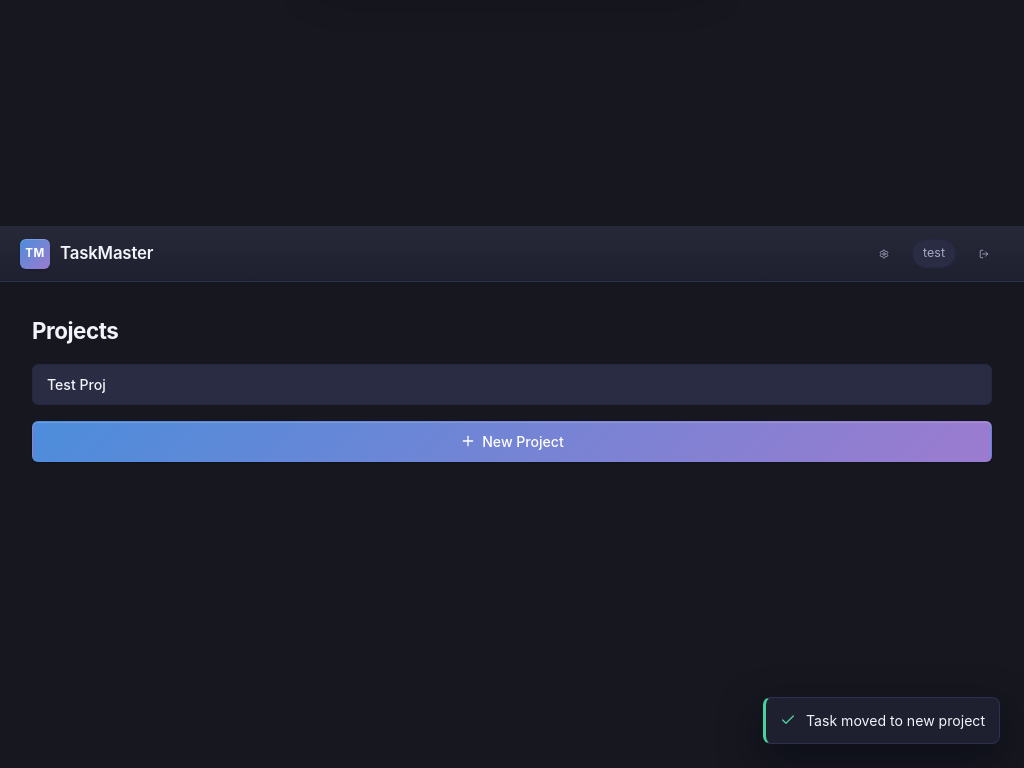
Scenario: App › opening edit task shows right-side flyout panel with dialog role
(page scrolled)
Click the button "Test Proj" at (76, 384), box [32,364,992,405]
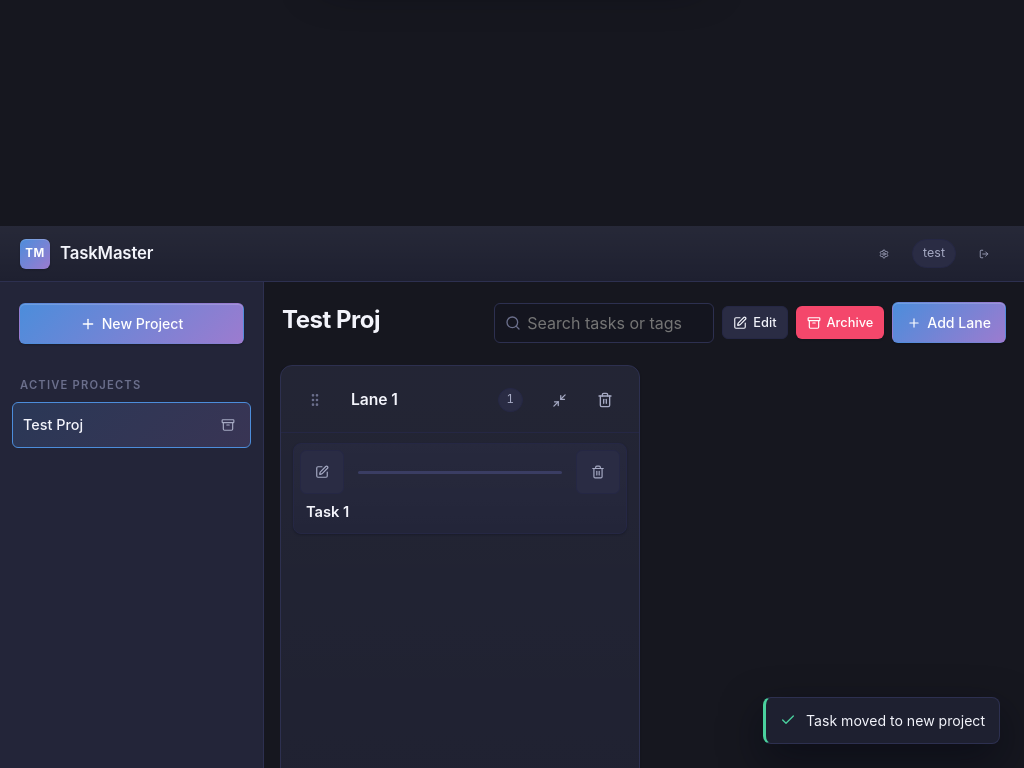
Expected: the text "Task 1" is shown, [306,503,349,521]
Click the button named "Edit task Task 1" at (322, 472), box [300,450,344,494]
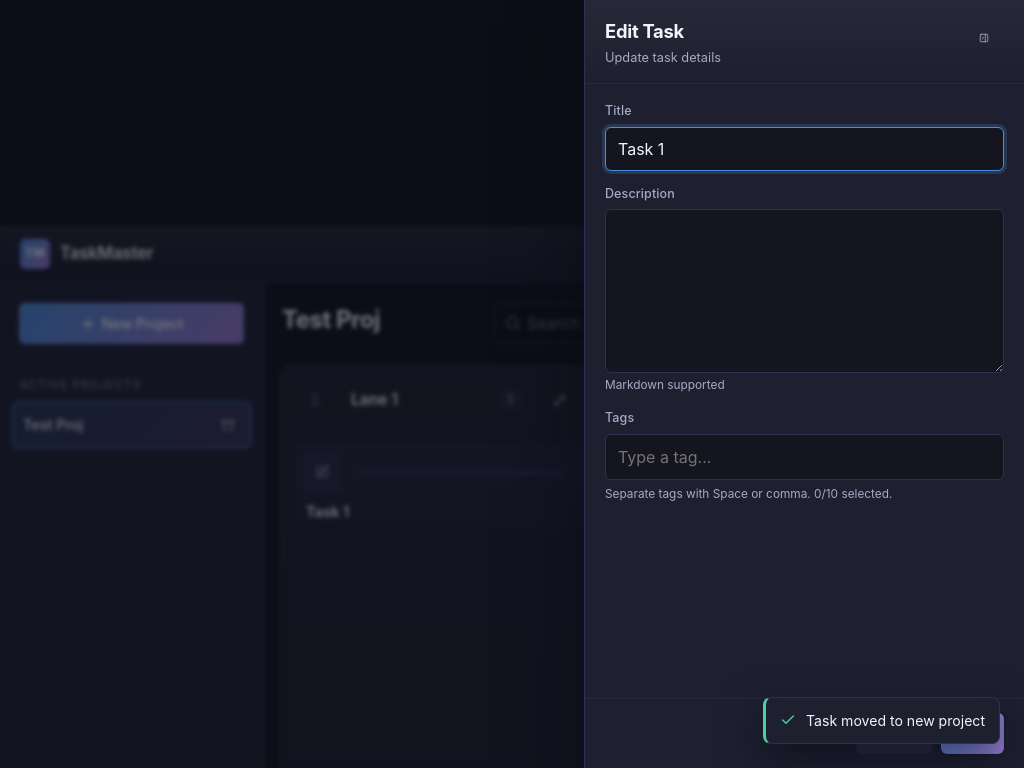
Expected: the dialog "Edit Task" is shown, [584,0,1023,767]
Expected: the button named "Close edit task panel" is shown, [964,18,1004,58]
Press Escape
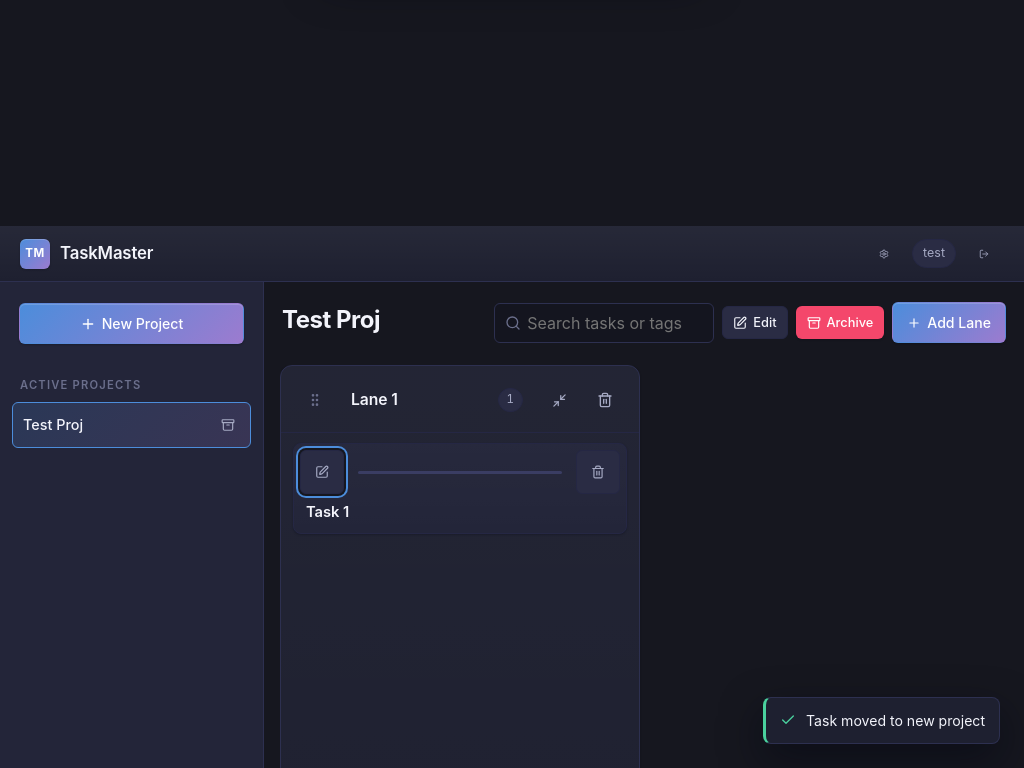
Expected: the heading "Edit Task" is gone
